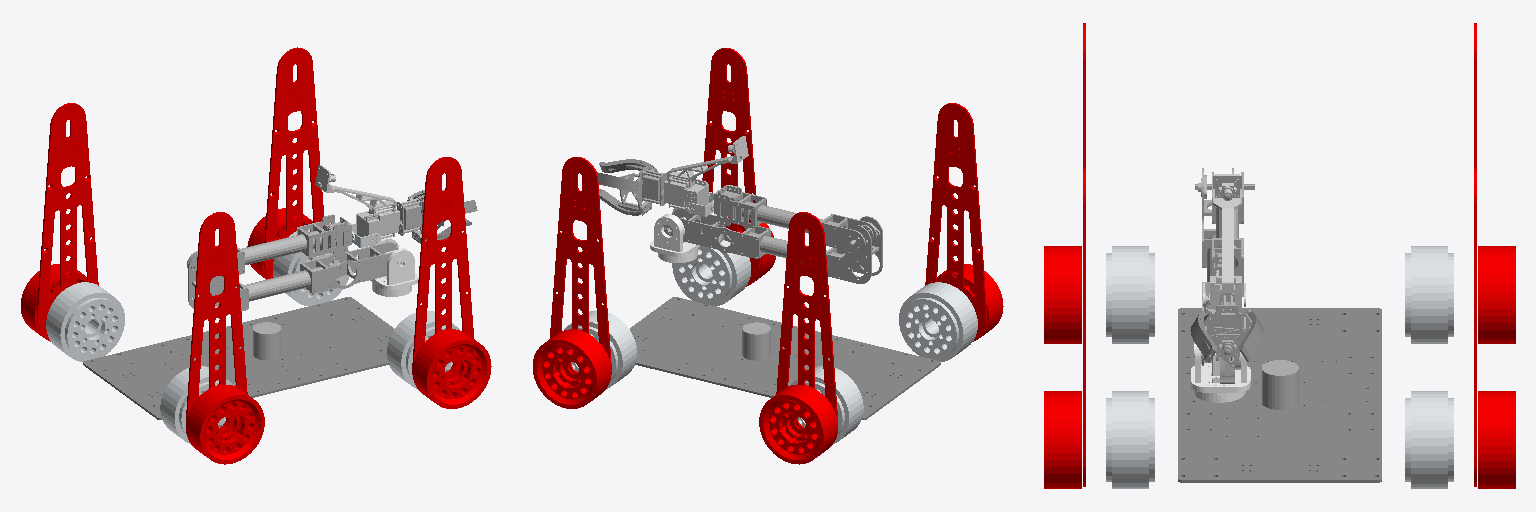
--- Render facts (derived) ---
3 views of the same robot in one strip: view 1: azimuth 30°, elevation 25°; view 2: azimuth 150°, elevation 25°; view 3: azimuth 270°, elevation 25° (orthographic).
Robot: explorer_big_arm_description — 21 links, 20 joints (13 revolute, 4 continuous, 3 fixed); root link base_link; default pose: every joint at zero.
Links seen in each view (by area): view 1: base_link, right_up_fin_link, right_down_fin_link, left_down_fin_link, left_up_fin_link, left_down_wheel_link, arm2_link, arm3_link, pt2_link, right_down_wheel_link, right_up_wheel_link, arm1_link (+3 smaller); view 2: base_link, left_down_fin_link, left_up_fin_link, right_down_fin_link, right_up_fin_link, arm2_link, right_down_wheel_link, arm3_link, right_up_wheel_link, pt2_link, left_down_wheel_link, left_up_wheel_link (+3 smaller); view 3: base_link, left_up_fin_link, right_up_fin_link, left_up_wheel_link, right_up_wheel_link, left_down_wheel_link, right_down_wheel_link, left_down_fin_link, right_down_fin_link, pt2_link, gripper_rotate_link, arm1_link (+5 smaller).
Link boxes in pixels (x1,y1,x2,y2): base_link: [83, 297, 393, 419]; right_up_fin_link: [412, 157, 491, 408]; right_down_fin_link: [186, 212, 264, 464]; left_down_fin_link: [21, 103, 98, 341]; left_up_fin_link: [247, 47, 324, 279]; left_down_wheel_link: [46, 282, 124, 361]; arm2_link: [188, 242, 400, 314]; arm3_link: [187, 214, 351, 277]; pt2_link: [315, 165, 399, 240]; right_down_wheel_link: [160, 366, 233, 443]; right_up_wheel_link: [387, 311, 459, 388]; arm1_link: [370, 237, 418, 296]; base_link: [630, 297, 940, 419]; left_down_fin_link: [759, 212, 837, 464]; left_up_fin_link: [533, 157, 611, 408]; right_down_fin_link: [925, 103, 1003, 341]; right_up_fin_link: [702, 48, 775, 286]; arm2_link: [664, 209, 882, 283]; right_down_wheel_link: [899, 282, 977, 361]; arm3_link: [714, 185, 876, 252]; right_up_wheel_link: [672, 238, 750, 306]; pt2_link: [664, 136, 748, 212]; left_down_wheel_link: [790, 366, 863, 443]; left_up_wheel_link: [564, 310, 636, 388]; base_link: [1178, 308, 1381, 482]; left_up_fin_link: [1474, 168, 1515, 488]; right_up_fin_link: [1044, 168, 1085, 488]; left_up_wheel_link: [1405, 391, 1453, 488]; right_up_wheel_link: [1106, 391, 1154, 488]; left_down_wheel_link: [1405, 246, 1453, 343]; right_down_wheel_link: [1106, 246, 1154, 343]; left_down_fin_link: [1474, 23, 1515, 343]; right_down_fin_link: [1044, 23, 1085, 343]; pt2_link: [1205, 174, 1241, 310]; gripper_rotate_link: [1204, 293, 1251, 367]; arm1_link: [1191, 343, 1250, 402].
Bounding box of the posed robot: 0.6812 × 0.625 × 0.4593 m (x, y, z).
19 mesh visuals loaded from 20 distinct referenced files (19 binary STL); not drawn: 1 (reference not matched to a file when rendering).

URDF robot description (explorer_big_arm_description):
<?xml version="1.0" ?>
<robot
  name="explorer_big_arm_description">

  <material name="Black">
    <color rgba="0 0 0 1"/>
  </material>
  <material name="White">
    <color rgba="1 1 1 1"/>
  </material>
  <material name="Blue">
    <color rgba="0 0 1 1"/>
  </material>
  <material name="Red">
    <color rgba="1 0 0 1"/>
  </material>

  <link
    name="base_link">
    <inertial>
      <origin
        xyz="-0.044036144072136 -0.460390275599418 0.198549387505164"
        rpy="0 0 0" />
      <mass
        value="1.55011674436373" />
      <inertia
        ixx="0.00937644469932754"
        ixy="-1.5910852481903E-06"
        ixz="-1.40356556283092E-21"
        iyy="0.0375555069162083"
        iyz="5.73402298223464E-19"
        izz="0.0469278179708842" />
    </inertial>
    <visual>
      <origin
        xyz="0 0 0"
        rpy="0 0 0" />
      <geometry>
        <mesh
          filename="package://explorer_big_arm_description/meshes/base_link.STL" />
      </geometry>
      <material
        name="">
        <color
          rgba="0.6 0.6 0.6 1" />
      </material>
    </visual>
    <collision>
      <origin
        xyz="0 0 0"
        rpy="0 0 0" />
      <geometry>
        <mesh
          filename="package://explorer_big_arm_description/meshes/base_link.STL" />
      </geometry>
    </collision>
  </link>
  <link
    name="front_back_base">
    <inertial>
      <origin
        xyz="-5.73985303731206E-14 -1.22124532708767E-15 5.55111512312578E-17"
        rpy="0 0 0" />
      <mass
        value="0.098174770424681" />
      <inertia
        ixx="3.57928850506649E-05"
        ixy="2.78289035008155E-36"
        ixz="1.58794209174878E-20"
        iyy="3.57928850506649E-05"
        iyz="1.83670992315982E-37"
        izz="3.06796157577128E-05" />
    </inertial>
    <visual>
      <origin
        xyz="0 0 0"
        rpy="0 0 0" />
      <geometry>
        <mesh
          filename="package://explorer_big_arm_description/meshes/front_back_base.STL" />
      </geometry>
      <material
        name="">
        <color
          rgba="0.752941176470588 0.752941176470588 0.752941176470588 1" />
      </material>
    </visual>
    <collision>
      <origin
        xyz="0 0 0"
        rpy="0 0 0" />
      <geometry>
        <mesh
          filename="package://explorer_big_arm_description/meshes/front_back_base.STL" />
      </geometry>
    </collision>
  </link>
  <joint
    name="joint_front_back"
    type="fixed">
    <origin
      xyz="-0.019054 -0.4599 0.22555"
      rpy="0 6.123E-17 1.5708" />
    <parent
      link="base_link" />
    <child
      link="front_back_base" />
    <axis
      xyz="0 0 0" />
    <limit
      lower="-3.14"
      upper="3.14"
      effort="0"
      velocity="0" />
  </joint>
  <link
    name="left_up_wheel_link">
    <inertial>
      <origin
        xyz="0.000209438332896661 2.77555756156289E-17 1.11022302462516E-16"
        rpy="0 0 0" />
      <mass
        value="1.75219828198651" />
      <inertia
        ixx="0.00393165126715032"
        ixy="-2.3246853651292E-19"
        ixz="-2.73908400851807E-20"
        iyy="0.00250810042988101"
        iyz="-2.49096200311938E-19"
        izz="0.00250810042988101" />
    </inertial>
    <visual>
      <origin
        xyz="0 0 0"
        rpy="0 0 0" />
      <geometry>
        <mesh
          filename="package://explorer_big_arm_description/meshes/left_up_wheel_link.STL" />
      </geometry>
      <material
        name="">
        <color
          rgba="0.898039215686275 0.917647058823529 0.929411764705882 1" />
      </material>
    </visual>
    <collision>
      <origin
        xyz="0 0 0"
        rpy="0 0 0" />
      <geometry>
        <mesh
          filename="package://explorer_big_arm_description/meshes/left_up_wheel_link.STL" />
      </geometry>
    </collision>
  </link>
  <joint
    name="left_up_wheel_base_joint"
    type="continuous">
    <origin
      xyz="0.198 -0.205 0.015"
      rpy="0 0 0" />
    <parent
      link="front_back_base" />
    <child
      link="left_up_wheel_link" />
    <axis
      xyz="-1 0 0" />
    <limit
      effort="0"
      velocity="0" />
  </joint>
  <link
    name="right_up_wheel_link">
    <inertial>
      <origin
        xyz="-0.000209438332896772 -8.32667268468867E-17 2.77555756156289E-17"
        rpy="0 0 0" />
      <mass
        value="1.75219828198651" />
      <inertia
        ixx="0.00393165126715032"
        ixy="3.12128277977227E-19"
        ixz="-9.15680855655708E-19"
        iyy="0.00250810042988101"
        iyz="2.57621524370519E-19"
        izz="0.00250810042988101" />
    </inertial>
    <visual>
      <origin
        xyz="0 0 0"
        rpy="0 0 0" />
      <geometry>
        <mesh
          filename="package://explorer_big_arm_description/meshes/right_up_wheel_link.STL" />
      </geometry>
      <material
        name="">
        <color
          rgba="0.898039215686275 0.917647058823529 0.929411764705882 1" />
      </material>
    </visual>
    <collision>
      <origin
        xyz="0 0 0"
        rpy="0 0 0" />
      <geometry>
        <mesh
          filename="package://explorer_big_arm_description/meshes/right_up_wheel_link.STL" />
      </geometry>
    </collision>
  </link>
  <joint
    name="right_up_wheel_base_joint"
    type="continuous">
    <origin
      xyz="-0.199 -0.205 0.015"
      rpy="0 0 0" />
    <parent
      link="front_back_base" />
    <child
      link="right_up_wheel_link" />
    <axis
      xyz="-1 0 0" />
    <limit
      effort="0"
      velocity="0" />
  </joint>
  <link
    name="left_down_wheel_link">
    <inertial>
      <origin
        xyz="0.000209438332896605 5.55111512312578E-17 2.77555756156289E-17"
        rpy="0 0 0" />
      <mass
        value="1.75219828198651" />
      <inertia
        ixx="0.00393165126715032"
        ixy="-2.22010960859514E-19"
        ixz="-3.61911486291826E-20"
        iyy="0.00250810042988101"
        iyz="-1.48840294483378E-19"
        izz="0.00250810042988101" />
    </inertial>
    <visual>
      <origin
        xyz="0 0 0"
        rpy="0 0 0" />
      <geometry>
        <mesh
          filename="package://explorer_big_arm_description/meshes/left_down_wheel_link.STL" />
      </geometry>
      <material
        name="">
        <color
          rgba="0.898039215686275 0.917647058823529 0.929411764705882 1" />
      </material>
    </visual>
    <collision>
      <origin
        xyz="0 0 0"
        rpy="0 0 0" />
      <geometry>
        <mesh
          filename="package://explorer_big_arm_description/meshes/left_down_wheel_link.STL" />
      </geometry>
    </collision>
  </link>
  <joint
    name="left_down_wheel_base_joint"
    type="continuous">
    <origin
      xyz="0.198 0.25 0.015"
      rpy="0 0 0" />
    <parent
      link="front_back_base" />
    <child
      link="left_down_wheel_link" />
    <axis
      xyz="-1 0 0" />
    <limit
      effort="0"
      velocity="0" />
  </joint>
  <link
    name="right_down_wheel_link">
    <inertial>
      <origin
        xyz="-0.00020943833289655 -5.55111512312578E-17 2.77555756156289E-17"
        rpy="0 0 0" />
      <mass
        value="1.75219828198651" />
      <inertia
        ixx="0.00393165126715032"
        ixy="-2.04132106829264E-19"
        ixz="1.55381663393781E-19"
        iyy="0.00250810042988101"
        iyz="2.4285439880719E-19"
        izz="0.00250810042988101" />
    </inertial>
    <visual>
      <origin
        xyz="0 0 0"
        rpy="0 0 0" />
      <geometry>
        <mesh
          filename="package://explorer_big_arm_description/meshes/right_down_wheel_link.STL" />
      </geometry>
      <material
        name="">
        <color
          rgba="0.898039215686275 0.917647058823529 0.929411764705882 1" />
      </material>
    </visual>
    <collision>
      <origin
        xyz="0 0 0"
        rpy="0 0 0" />
      <geometry>
        <mesh
          filename="package://explorer_big_arm_description/meshes/right_down_wheel_link.STL" />
      </geometry>
    </collision>
  </link>
  <joint
    name="right_down_wheel_base_joint"
    type="continuous">
    <origin
      xyz="-0.199 0.25 0.015"
      rpy="0 0 0" />
    <parent
      link="front_back_base" />
    <child
      link="right_down_wheel_link" />
    <axis
      xyz="-1 0 0" />
    <limit
      effort="0"
      velocity="0" />
  </joint>
  <link
    name="frame_link">
    <inertial>
      <origin
        xyz="0.0157094006912276 0.0924655945830301 0.0479982730549188"
        rpy="0 0 0" />
      <mass
        value="14.6546725408455" />
      <inertia
        ixx="0.77867620726721"
        ixy="-0.0628006722109461"
        ixz="-0.0160866787905006"
        iyy="0.421693612669693"
        iyz="-0.0630708236531862"
        izz="1.1392401743399" />
    </inertial>
    <visual>
      <origin
        xyz="0 0 0"
        rpy="0 0 0" />
      <geometry>
        <mesh
          filename="package://explorer_big_arm_description/meshes/frame_link.STL" />
      </geometry>
      <material
        name="">
        <color
          rgba="0.6 0.6 0.6 1" />
      </material>
    </visual>
    <collision>
      <origin
        xyz="0 0 0"
        rpy="0 0 0" />
      <geometry>
        <mesh
          filename="package://explorer_big_arm_description/meshes/frame_link.STL" />
      </geometry>
    </collision>
  </link>
  <joint
    name="robot_left_right"
    type="fixed">
    <origin
      xyz="0 0 0"
      rpy="0 0 0" />
    <parent
      link="front_back_base" />
    <child
      link="frame_link" />
    <axis
      xyz="0 0 0" />
    <limit
      lower="-3.14"
      upper="3.14"
      effort="0"
      velocity="0" />
  </joint>
  <link
    name="left_up_fin_link">
    <inertial>
      <origin
        xyz="-0.00748769357814175 5.55111512312578E-17 0.0399465232464891"
        rpy="0 0 0" />
      <mass
        value="1.40228402467554" />
      <inertia
        ixx="0.0157925195962112"
        ixy="3.89240367440004E-19"
        ixz="0.00117682177403716"
        iyy="0.0143974008824554"
        iyz="-4.7314509287449E-18"
        izz="0.00214346317220893" />
    </inertial>
    <visual>
      <origin
        xyz="0 0 0"
        rpy="0 0 0" />
      <geometry>
        <mesh
          filename="package://explorer_big_arm_description/meshes/left_up_fin_link.STL" />
      </geometry>
      <material
        name="Red"/>
    </visual>
    <collision>
      <origin
        xyz="0 0 0"
        rpy="0 0 0" />
      <geometry>
        <mesh
          filename="package://explorer_big_arm_description/meshes/left_up_fin_link.STL" />
      </geometry>
    </collision>
  </link>
  <joint
    name="left_up_fin_base_joint"
    type="revolute">
    <origin
      xyz="0.287 -0.205 0.015"
      rpy="0 0 0" />
    <parent
      link="frame_link" />
    <child
      link="left_up_fin_link" />
    <axis
      xyz="-1 0 0" />
    <limit
      lower="-3.14"
      upper="0"
      effort="0"
      velocity="0" />
  </joint>
  <link
    name="right_up_fin_link">
    <inertial>
      <origin
        xyz="0.00748769357814216 0 0.0399465232464889"
        rpy="0 0 0" />
      <mass
        value="1.40228402467554" />
      <inertia
        ixx="0.0157925195962112"
        ixy="8.06124394858924E-19"
        ixz="-0.00117682177403717"
        iyy="0.0143974008824554"
        iyz="5.12422457581003E-18"
        izz="0.00214346317220893" />
    </inertial>
    <visual>
      <origin
        xyz="0 0 0"
        rpy="0 0 0" />
      <geometry>
        <mesh
          filename="package://explorer_big_arm_description/meshes/right_up_fin_link.STL" />
      </geometry>
      <material
        name="Red"/>
    </visual>
    <collision>
      <origin
        xyz="0 0 0"
        rpy="0 0 0" />
      <geometry>
        <mesh
          filename="package://explorer_big_arm_description/meshes/right_up_fin_link.STL" />
      </geometry>
    </collision>
  </link>
  <joint
    name="right_up_fin_base_joint"
    type="revolute">
    <origin
      xyz="-0.288 -0.205 0.015"
      rpy="0 0 0" />
    <parent
      link="frame_link" />
    <child
      link="right_up_fin_link" />
    <axis
      xyz="-1 0 0" />
    <limit
      lower="-3.14"
      upper="0"
      effort="0"
      velocity="0" />
  </joint>
  <link
    name="left_down_fin_link">
    <inertial>
      <origin
        xyz="0.00748769357814175 -5.55111512312578E-17 0.039946523246489"
        rpy="0 0 0" />
      <mass
        value="1.40228402467554" />
      <inertia
        ixx="0.0157925195962112"
        ixy="-6.90910060262345E-19"
        ixz="-0.00117682177403717"
        iyy="0.0143974008824555"
        iyz="-2.47013609195998E-18"
        izz="0.00214346317220893" />
    </inertial>
    <visual>
      <origin
        xyz="0 0 0"
        rpy="0 0 0" />
      <geometry>
        <mesh
          filename="package://explorer_big_arm_description/meshes/left_down_fin_link.STL" />
      </geometry>
      <material
        name="Red"/>
    </visual>
    <collision>
      <origin
        xyz="0 0 0"
        rpy="0 0 0" />
      <geometry>
        <mesh
          filename="package://explorer_big_arm_description/meshes/left_down_fin_link.STL" />
      </geometry>
    </collision>
  </link>
  <joint
    name="left_down_fin_base_joint"
    type="revolute">
    <origin
      xyz="0.287 0.25 0.015"
      rpy="0 0 3.1416" />
    <parent
      link="frame_link" />
    <child
      link="left_down_fin_link" />
    <axis
      xyz="1 0 0" />
    <limit
      lower="0"
      upper="3.14"
      effort="0"
      velocity="0" />
  </joint>
  <link
    name="right_down_fin_link">
    <inertial>
      <origin
        xyz="-0.00748769357814205 5.55111512312578E-17 0.0399465232464891"
        rpy="0 0 0" />
      <mass
        value="1.40228402467554" />
      <inertia
        ixx="0.0157925195962112"
        ixy="-4.57230907908221E-19"
        ixz="0.00117682177403717"
        iyy="0.0143974008824554"
        iyz="7.20763800292013E-19"
        izz="0.00214346317220893" />
    </inertial>
    <visual>
      <origin
        xyz="0 0 0"
        rpy="0 0 0" />
      <geometry>
        <mesh
          filename="package://explorer_big_arm_description/meshes/right_down_fin_link.STL" />
      </geometry>
      <material
        name="Red"/>
    </visual>
    <collision>
      <origin
        xyz="0 0 0"
        rpy="0 0 0" />
      <geometry>
        <mesh
          filename="package://explorer_big_arm_description/meshes/right_down_fin_link.STL" />
      </geometry>
    </collision>
  </link>
  <joint
    name="right_down_fin_base_joint"
    type="revolute">
    <origin
      xyz="-0.288 0.25 0.015"
      rpy="0 0 3.1416" />
    <parent
      link="frame_link" />
    <child
      link="right_down_fin_link" />
    <axis
      xyz="1 0 0" />
    <limit
      lower="0"
      upper="3.14"
      effort="0"
      velocity="0" />
  </joint>
  <link
    name="arm1_link">
    <inertial>
      <origin
        xyz="0.000508844492911442 -0.00163813313145131 0.0233515522537508"
        rpy="0 0 0" />
      <mass
        value="0.659887719993426" />
      <inertia
        ixx="0.000511166105932805"
        ixy="-9.79401213729473E-08"
        ixz="-4.49776362619003E-06"
        iyy="0.000583493431053191"
        iyz="1.89364951124032E-05"
        izz="0.00050041690854941" />
    </inertial>
    <visual>
      <origin
        xyz="0 0 0"
        rpy="0 0 0" />
      <geometry>
        <mesh
          filename="package://explorer_big_arm_description/meshes/arm1_link.STL" />
      </geometry>
      <material
        name="">
        <color
          rgba="1 1 1 1" />
      </material>
    </visual>
    <collision>
      <origin
        xyz="0 0 0"
        rpy="0 0 0" />
      <geometry>
        <mesh
          filename="package://explorer_big_arm_description/meshes/arm1_link.STL" />
      </geometry>
    </collision>
  </link>
  <joint
    name="arm1_bearing_joint"
    type="revolute">
    <origin
      xyz="-0.080499 -0.205 0.085"
      rpy="0 0 0" />
    <parent
      link="frame_link" />
    <child
      link="arm1_link" />
    <axis
      xyz="0 0 1" />
    <limit
      lower="-1.57"
      upper="1.57"
      effort="0"
      velocity="0" />
  </joint>
  <link
    name="arm2_link">
    <inertial>
      <origin
        xyz="-0.0236231576683045 0.22295004458372 0.0112847556251372"
        rpy="0 0 0" />
      <mass
        value="0.196076424497199" />
      <inertia
        ixx="0.00367815543806651"
        ixy="-8.85335103528537E-06"
        ixz="-9.50547616719057E-07"
        iyy="0.000182234902736311"
        iyz="-0.000332537237220743"
        izz="0.00360490309942739" />
    </inertial>
    <visual>
      <origin
        xyz="0 0 0"
        rpy="0 0 0" />
      <geometry>
        <mesh
          filename="package://explorer_big_arm_description/meshes/arm2_link.STL" />
      </geometry>
      <material
        name="">
        <color
          rgba="0.752941176470588 0.752941176470588 0.752941176470588 1" />
      </material>
    </visual>
    <collision>
      <origin
        xyz="0 0 0"
        rpy="0 0 0" />
      <geometry>
        <mesh
          filename="package://explorer_big_arm_description/meshes/arm2_link.STL" />
      </geometry>
    </collision>
  </link>
  <joint
    name="arm2_arm1_joint"
    type="revolute">
    <origin
      xyz="0.02425 0 0.061"
      rpy="0 0 3.584E-15" />
    <parent
      link="arm1_link" />
    <child
      link="arm2_link" />
    <axis
      xyz="-1 0 0" />
    <limit
      lower="-2.16"
      upper="0"
      effort="0"
      velocity="0" />
  </joint>
  <link
    name="arm3_link">
    <inertial>
      <origin
        xyz="0.000523917843227473 -0.18635628575445 -0.000729012342161994"
        rpy="0 0 0" />
      <mass
        value="0.208381103991094" />
      <inertia
        ixx="0.00226355266229584"
        ixy="-1.60730065149391E-05"
        ixz="-7.54891527734013E-08"
        iyy="6.45224144488576E-05"
        iyz="-8.75141329726509E-06"
        izz="0.00226397281371875" />
    </inertial>
    <visual>
      <origin
        xyz="0 0 0"
        rpy="0 0 0" />
      <geometry>
        <mesh
          filename="package://explorer_big_arm_description/meshes/arm3_link.STL" />
      </geometry>
      <material
        name="">
        <color
          rgba="0.752941176470588 0.752941176470588 0.752941176470588 1" />
      </material>
    </visual>
    <collision>
      <origin
        xyz="0 0 0"
        rpy="0 0 0" />
      <geometry>
        <mesh
          filename="package://explorer_big_arm_description/meshes/arm3_link.STL" />
      </geometry>
    </collision>
  </link>
  <joint
    name="arm3_arm2_joint"
    type="revolute">
    <origin
      xyz="-0.0175 0.37413 0.065"
      rpy="0 0 0" />
    <parent
      link="arm2_link" />
    <child
      link="arm3_link" />
    <axis
      xyz="-1 0 0" />
    <limit
      lower="0"
      upper="3.14"
      effort="0"
      velocity="0" />
  </joint>
  <link
    name="pt1_link">
    <inertial>
      <origin
        xyz="-1.11022302462516E-15 -0.0115740439705586 -5.79863934646596E-12"
        rpy="0 0 0" />
      <mass
        value="0.0133110522817061" />
      <inertia
        ixx="2.50594470944607E-06"
        ixy="1.19275750925553E-20"
        ixz="6.26393448731028E-20"
        iyy="7.19536685698803E-06"
        iyz="9.59860382806519E-21"
        izz="8.79976743065142E-06" />
    </inertial>
    <visual>
      <origin
        xyz="0 0 0"
        rpy="0 0 0" />
      <geometry>
        <mesh
          filename="package://explorer_big_arm_description/meshes/pt1_link.STL" />
      </geometry>
      <material
        name="">
        <color
          rgba="0.898039215686275 0.917647058823529 0.929411764705882 1" />
      </material>
    </visual>
    <collision>
      <origin
        xyz="0 0 0"
        rpy="0 0 0" />
      <geometry>
        <mesh
          filename="package://explorer_big_arm_description/meshes/pt1_link.STL" />
      </geometry>
    </collision>
  </link>
  <joint
    name="pt1_arm_joint"
    type="revolute">
    <origin
      xyz="-0.0005 -0.29694 -0.011097"
      rpy="0.0037086 1.6759E-15 -2.5288E-16" />
    <parent
      link="arm3_link" />
    <child
      link="pt1_link" />
    <axis
      xyz="0 -1 0" />
    <limit
      lower="-1.72"
      upper="1.42"
      effort="0"
      velocity="0" />
  </joint>
  <link
    name="pt2_link">
    <inertial>
      <origin
        xyz="0.0284666409378884 -0.0122965249569369 0.0208881619219733"
        rpy="0 0 0" />
      <mass
        value="0.222075702540908" />
      <inertia
        ixx="0.000448658968824593"
        ixy="3.74295966975421E-06"
        ixz="-3.7637048596474E-06"
        iyy="0.000237172522813215"
        iyz="-0.000148614817626506"
        izz="0.000251351686770739" />
    </inertial>
    <visual>
      <origin
        xyz="0 0 0"
        rpy="0 0 0" />
      <geometry>
        <mesh
          filename="package://explorer_big_arm_description/meshes/pt2_link.STL" />
      </geometry>
      <material
        name="">
        <color
          rgba="0.847058823529412 0.847058823529412 0.847058823529412 1" />
      </material>
    </visual>
    <collision>
      <origin
        xyz="0 0 0"
        rpy="0 0 0" />
      <geometry>
        <mesh
          filename="package://explorer_big_arm_description/meshes/pt2_link.STL" />
      </geometry>
    </collision>
  </link>
  <joint
    name="pt2_pt1_joint"
    type="revolute">
    <origin
      xyz="-0.02555 -0.03245 0"
      rpy="-1.0528E-14 1.3913E-14 2.3915E-17" />
    <parent
      link="pt1_link" />
    <child
      link="pt2_link" />
    <axis
      xyz="-1 0 0" />
    <limit
      lower="-1.81"
      upper="0.3"
      effort="0"
      velocity="0" />
  </joint>
  <link
    name="gripper_rotate_link">
    <inertial>
      <origin
        xyz="-8.56406842209001E-06 -0.033251813169419 0.00781392269582809"
        rpy="0 0 0" />
      <mass
        value="0.126580619621662" />
      <inertia
        ixx="7.83741507963793E-05"
        ixy="-4.70272447049405E-08"
        ixz="-1.20878400844526E-08"
        iyy="4.26849732289125E-05"
        iyz="-6.47305761247505E-06"
        izz="5.78578684503002E-05" />
    </inertial>
    <visual>
      <origin
        xyz="0 0 0"
        rpy="0 0 0" />
      <geometry>
        <mesh
          filename="package://explorer_big_arm_description/meshes/gripper_rotate_link.STL" />
      </geometry>
      <material
        name="">
        <color
          rgba="0.752941176470588 0.752941176470588 0.752941176470588 1" />
      </material>
    </visual>
    <collision>
      <origin
        xyz="0 0 0"
        rpy="0 0 0" />
      <geometry>
        <mesh
          filename="package://explorer_big_arm_description/meshes/gripper_rotate_link.STL" />
      </geometry>
    </collision>
  </link>
  <joint
    name="rotate_joint"
    type="revolute">
    <origin
      xyz="0.02985 -0.06535 0.001"
      rpy="1.0648E-14 -3.4915E-15 -3.4915E-15" />
    <parent
      link="pt2_link" />
    <child
      link="gripper_rotate_link" />
    <axis
      xyz="0 -1 0" />
    <limit
      lower="-1.57"
      upper="1.57"
      effort="0"
      velocity="0" />
  </joint>
  <link
    name="finger1_link">
    <inertial>
      <origin
        xyz="1.09346964816126E-09 -0.0493721437836998 0.000535222546179437"
        rpy="0 0 0" />
      <mass
        value="0.0188458862234688" />
      <inertia
        ixx="1.76722938851074E-05"
        ixy="7.35394260961618E-13"
        ixz="-2.87270032709456E-13"
        iyy="1.61559434463307E-06"
        iyz="-3.03135471444423E-06"
        izz="1.72494587341748E-05" />
    </inertial>
    <visual>
      <origin
        xyz="0 0 0"
        rpy="0 0 0" />
      <geometry>
        <mesh
          filename="package://explorer_big_arm_description/meshes/finger1_link.STL" />
      </geometry>
      <material
        name="">
        <color
          rgba="0.6 0.6 0.6 1" />
      </material>
    </visual>
    <collision>
      <origin
        xyz="0 0 0"
        rpy="0 0 0" />
      <geometry>
        <mesh
          filename="package://explorer_big_arm_description/meshes/finger1_link.STL" />
      </geometry>
    </collision>
  </link>
  <joint
    name="finger1_joint"
    type="revolute">
    <origin
      xyz="-0.033775 -0.0368 0.0195"
      rpy="-8.6736E-19 -1.0472 -4.3437E-19" />
    <parent
      link="gripper_rotate_link" />
    <child
      link="finger1_link" />
    <axis
      xyz="1 0 0" />
    <limit
      lower="-0.314"
      upper="0.1396"
      effort="0"
      velocity="0" />
  </joint>
  <link
    name="finger2_link">
    <inertial>
      <origin
        xyz="0 -0.0491989260888199 0.000265923835535475"
        rpy="0 0 0" />
      <mass
        value="0.0142516570501077" />
      <inertia
        ixx="1.29061026399681E-05"
        ixy="3.78480237301472E-21"
        ixz="1.21979925146252E-21"
        iyy="1.13283292129297E-06"
        iyz="-2.27545016132448E-06"
        izz="1.26481195573146E-05" />
    </inertial>
    <visual>
      <origin
        xyz="0 0 0"
        rpy="0 0 0" />
      <geometry>
        <mesh
          filename="package://explorer_big_arm_description/meshes/finger2_link.STL" />
      </geometry>
      <material
        name="">
        <color
          rgba="0.6 0.6 0.6 1" />
      </material>
    </visual>
    <collision>
      <origin
        xyz="0 0 0"
        rpy="0 0 0" />
      <geometry>
        <mesh
          filename="package://explorer_big_arm_description/meshes/finger2_link.STL" />
      </geometry>
    </collision>
  </link>
  <joint
    name="finger2_joint"
    type="revolute">
    <origin
      xyz="0 -0.0368 -0.039"
      rpy="-3.1416 9.4663E-30 -3.1416" />
    <parent
      link="gripper_rotate_link" />
    <child
      link="finger2_link" />
    <axis
      xyz="1 0 0" />
    <limit
      lower="-0.314"
      upper="0.1396"
      effort="0"
      velocity="0" />
  </joint>
  <link
    name="finger3_link">
    <inertial>
      <origin
        xyz="0 -0.0491989260888198 0.000265923835535448"
        rpy="0 0 0" />
      <mass
        value="0.0142516570501078" />
      <inertia
        ixx="1.29061026399681E-05"
        ixy="3.24630822980548E-21"
        ixz="7.19978005166155E-21"
        iyy="1.13283292129295E-06"
        iyz="-2.27545016132448E-06"
        izz="1.26481195573146E-05" />
    </inertial>
    <visual>
      <origin
        xyz="0 0 0"
        rpy="0 0 0" />
      <geometry>
        <mesh
          filename="package://explorer_big_arm_description/meshes/finger3_link.STL" />
      </geometry>
      <material
        name="">
        <color
          rgba="0.6 0.6 0.6 1" />
      </material>
    </visual>
    <collision>
      <origin
        xyz="0 0 0"
        rpy="0 0 0" />
      <geometry>
        <mesh
          filename="package://explorer_big_arm_description/meshes/finger3_link.STL" />
      </geometry>
    </collision>
  </link>
  <joint
    name="finger3_joint"
    type="revolute">
    <origin
      xyz="0.033775 -0.0368 0.0195"
      rpy="-8.6736E-19 1.0472 1.3004E-18" />
    <parent
      link="gripper_rotate_link" />
    <child
      link="finger3_link" />
    <axis
      xyz="-1 0 0" />
    <limit
      lower="-0.1396"
      upper="0.314"
      effort="0"
      velocity="0" />
  </joint>
  <link name="gripper_link"/>
  <joint 
    name="gripper_joint" 
    type="fixed">
    <origin 
      xyz="0.08 0 0" 
      rpy="0 0 0" />
    <parent 
      link="gripper_rotate_link" />
    <child 
      link="gripper_link" />
  </joint>
</robot>
